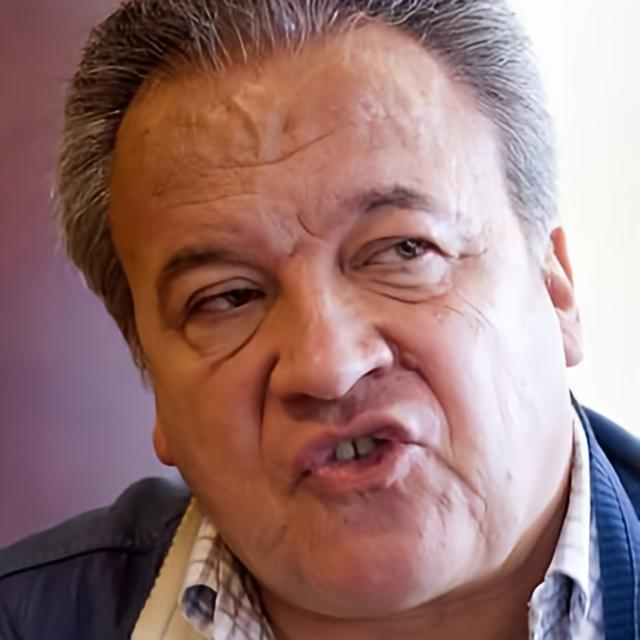disgust: (108, 3, 570, 624)
